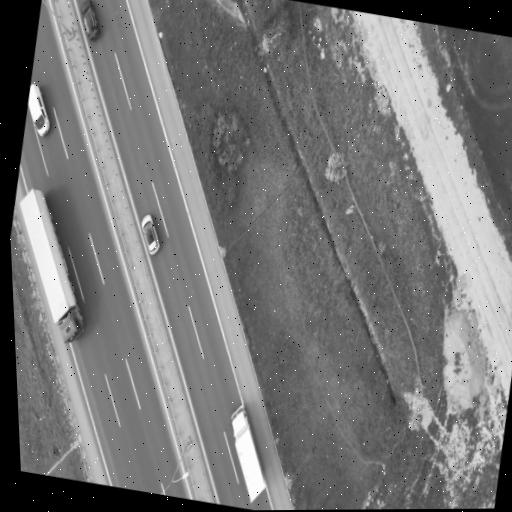car: (28, 85, 49, 136), (141, 215, 160, 254), (81, 0, 99, 39)
truck: (20, 189, 84, 342), (232, 406, 265, 501)
